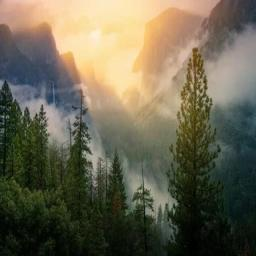Heavy smoke: (36, 1, 256, 217)
